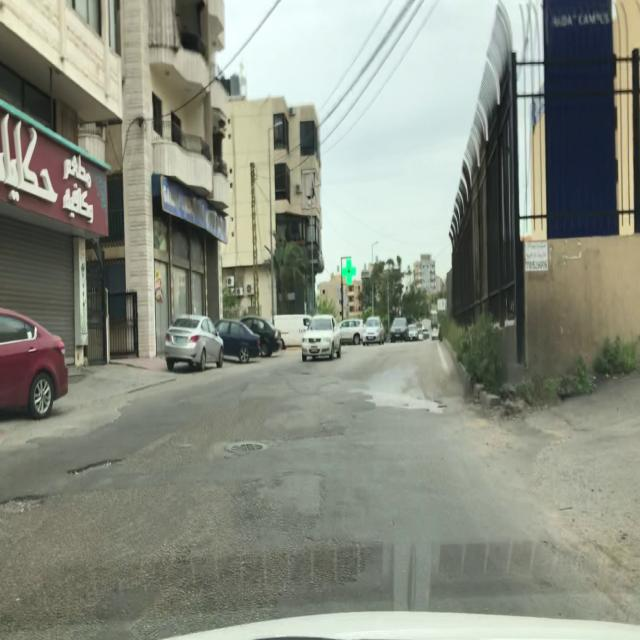Pothole: (67, 458, 124, 476), (0, 494, 44, 515), (426, 399, 446, 414)
